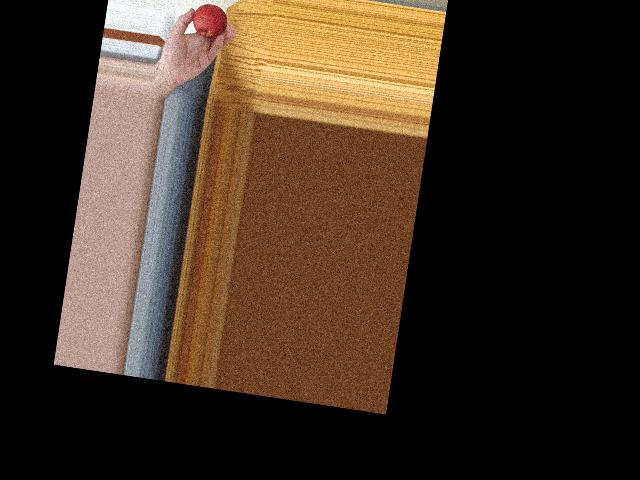apple: (192, 0, 230, 39)
